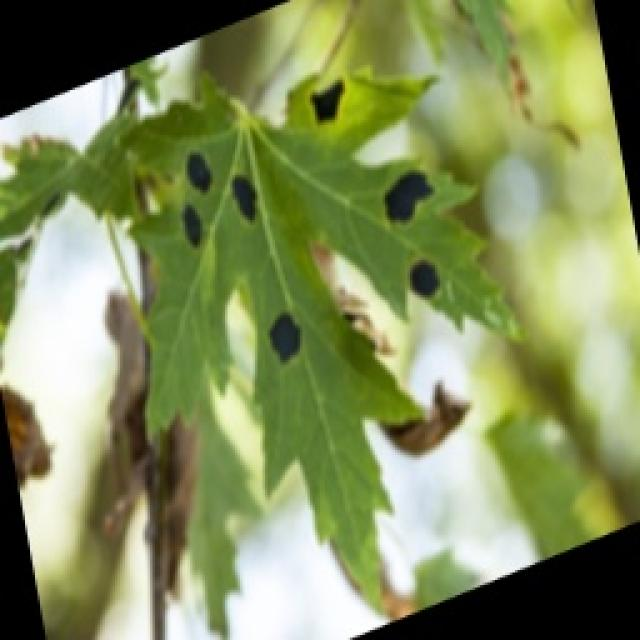Tar_Spot: (153, 89, 546, 448)
